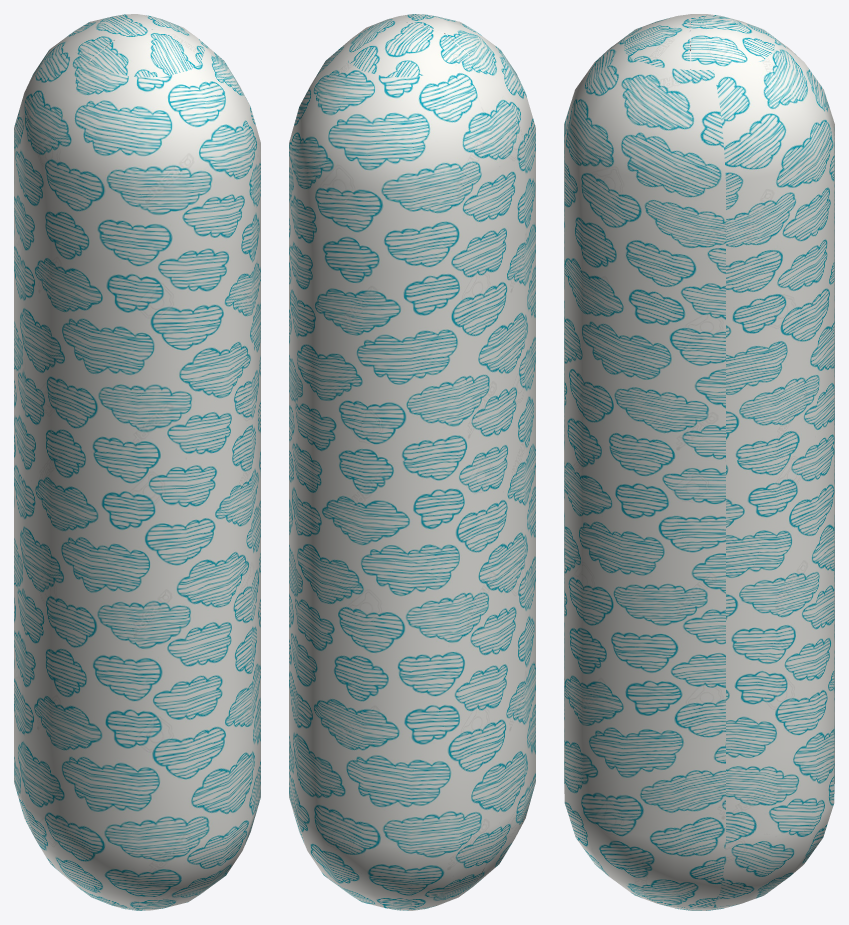
The model's file is I_edit.fbx.
The picture shows the model from 3 angles, left to right: view 1: azimuth 30°, elevation 25°; view 2: azimuth 150°, elevation 25°; view 3: azimuth 270°, elevation 25°; orthographic projection.
Parts seen in each view (by area): view 1: I_mesh; view 2: I_mesh; view 3: I_mesh.
Part boxes in pixels (box(x1,y1,x2,y2)): I_mesh: box(14, 14, 260, 910); I_mesh: box(289, 14, 535, 910); I_mesh: box(564, 14, 834, 910).
Bounding box in the file's own units: 0.527 × 2.23 × 0.6236.
